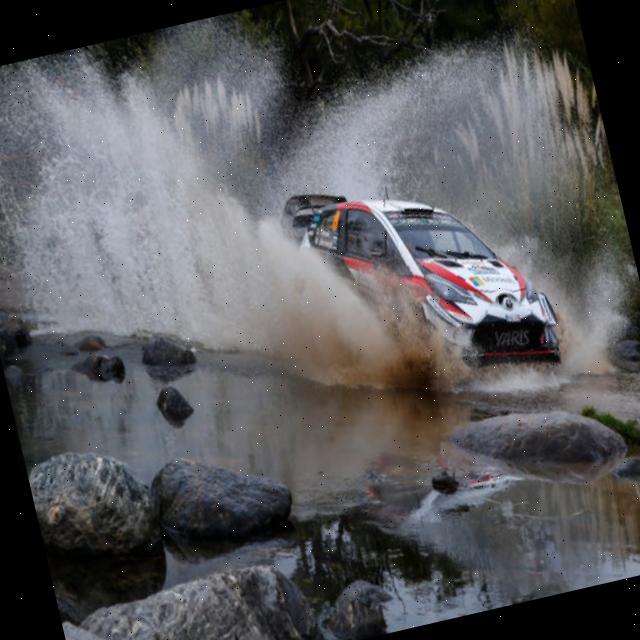car: (271, 140, 568, 416)
